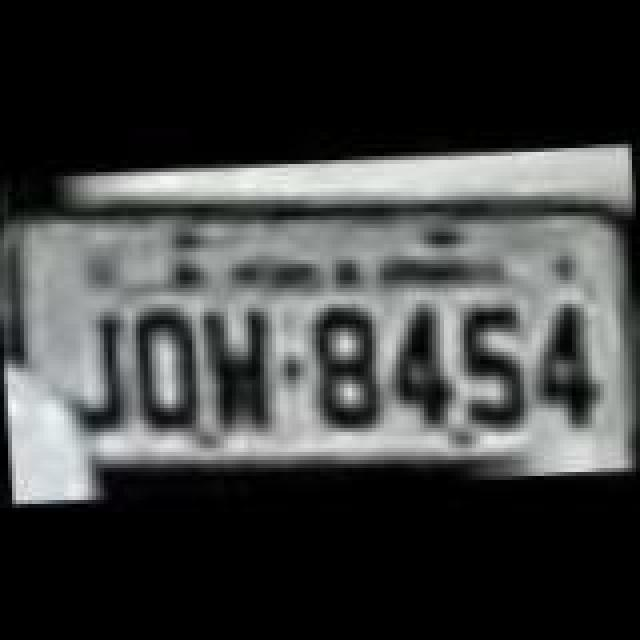4: (522, 290, 614, 434), (374, 296, 458, 428)
5: (456, 296, 536, 428)
8: (302, 300, 386, 428)
J: (56, 310, 136, 438)
O: (126, 302, 210, 434)
W: (200, 300, 280, 436)
